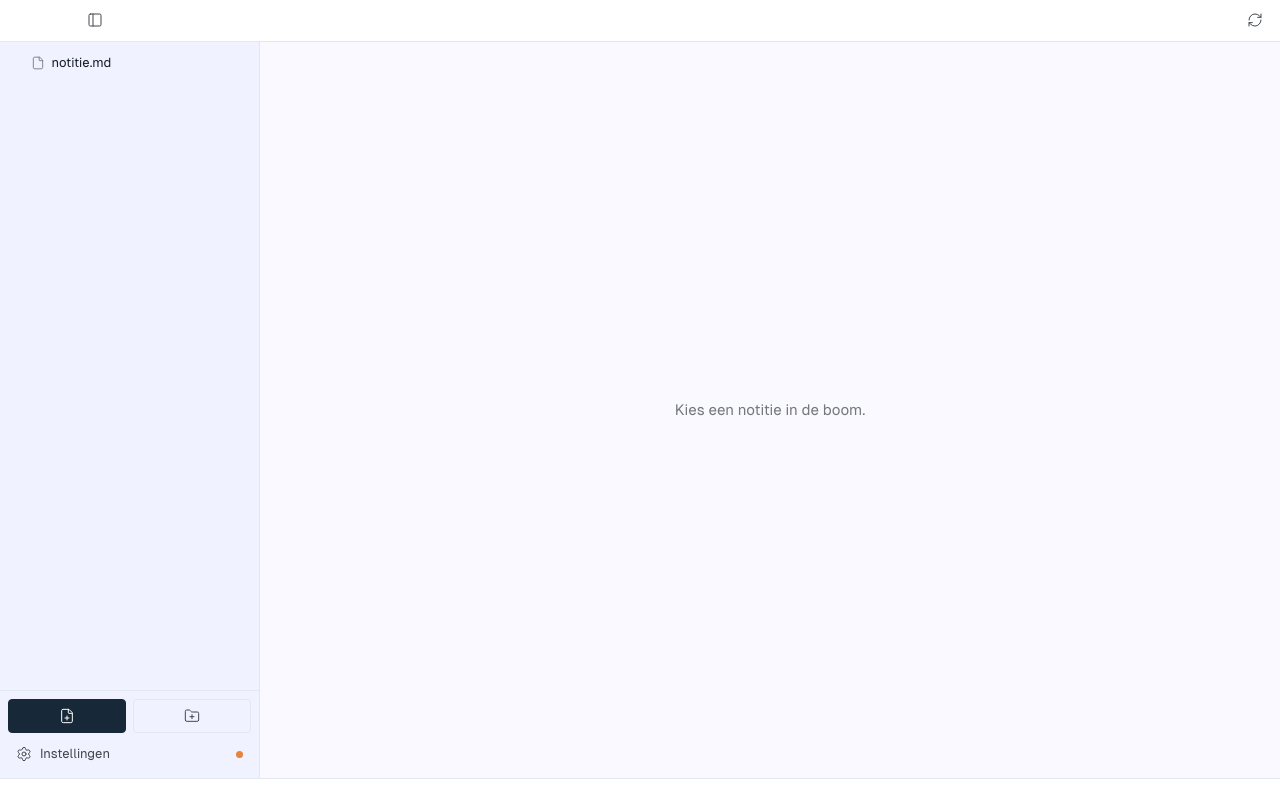
Test: App › een mislukte read toont een foutmelding, geen editor
Check: the text "notitie.md" is shown, box [52,55,111,71]
Click the button "notitie.md". click: {"x": 130, "y": 63}
box: [5,50,254,76]
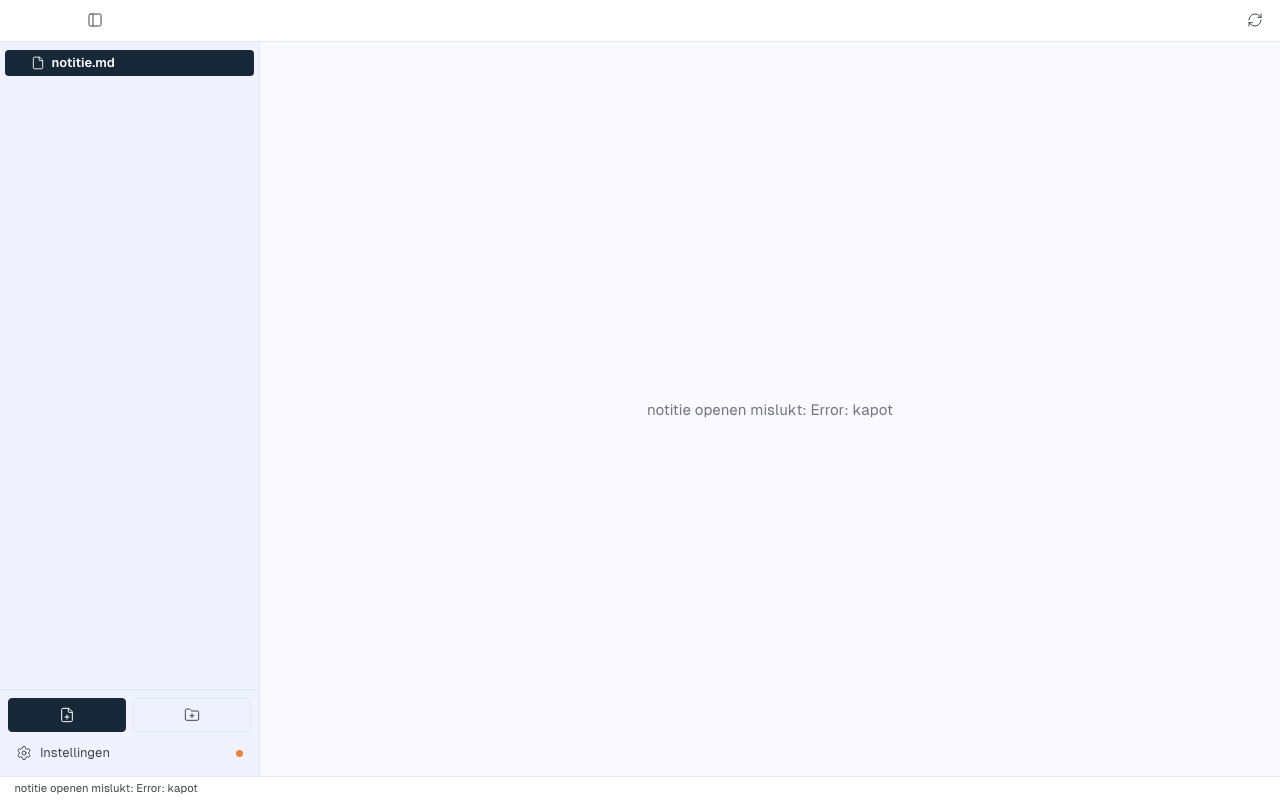
Check: the 1st text "notitie openen mislukt: Error: kapot" is shown, box [647,400,893,418]
